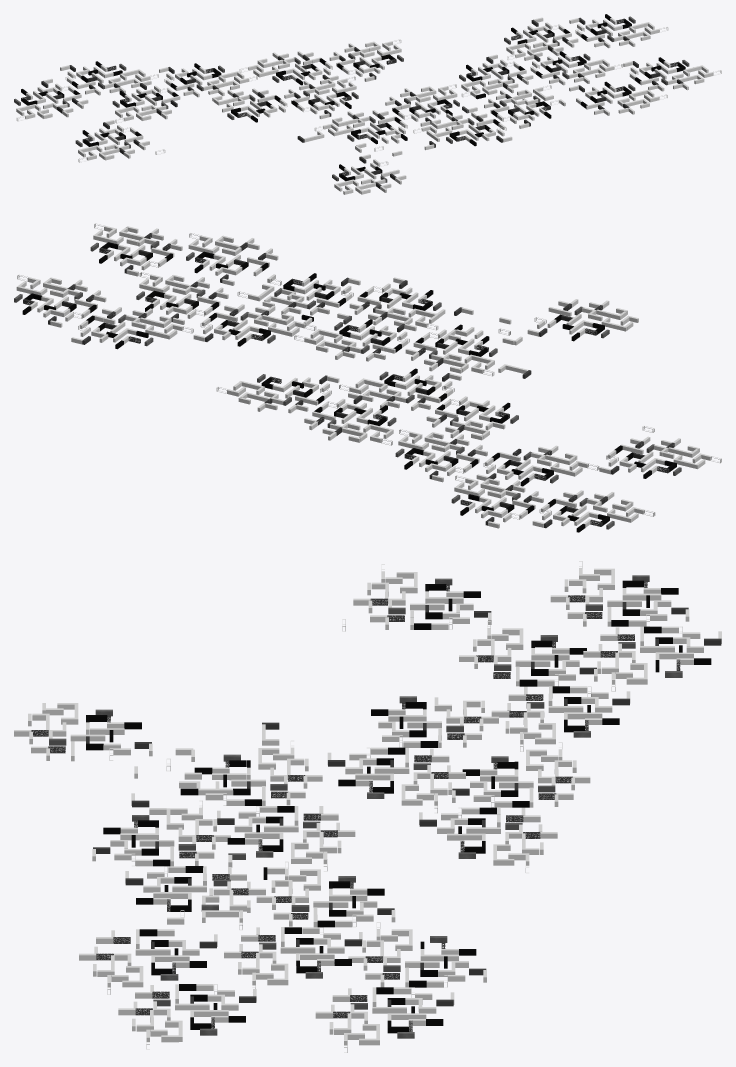
File: mazetoday30.fbx
The picture shows the model from 3 angles, top to bottom: view 1: azimuth 30°, elevation 25°; view 2: azimuth 150°, elevation 25°; view 3: azimuth 270°, elevation 25°; orthographic projection. The views are drawn at different scales.
Bounding box in the file's own units: 198 × 1.63 × 122.
917 materials, 118 textured.
